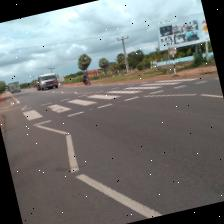blueboard: (0, 87, 1, 91)
crossing: (4, 61, 212, 141)
